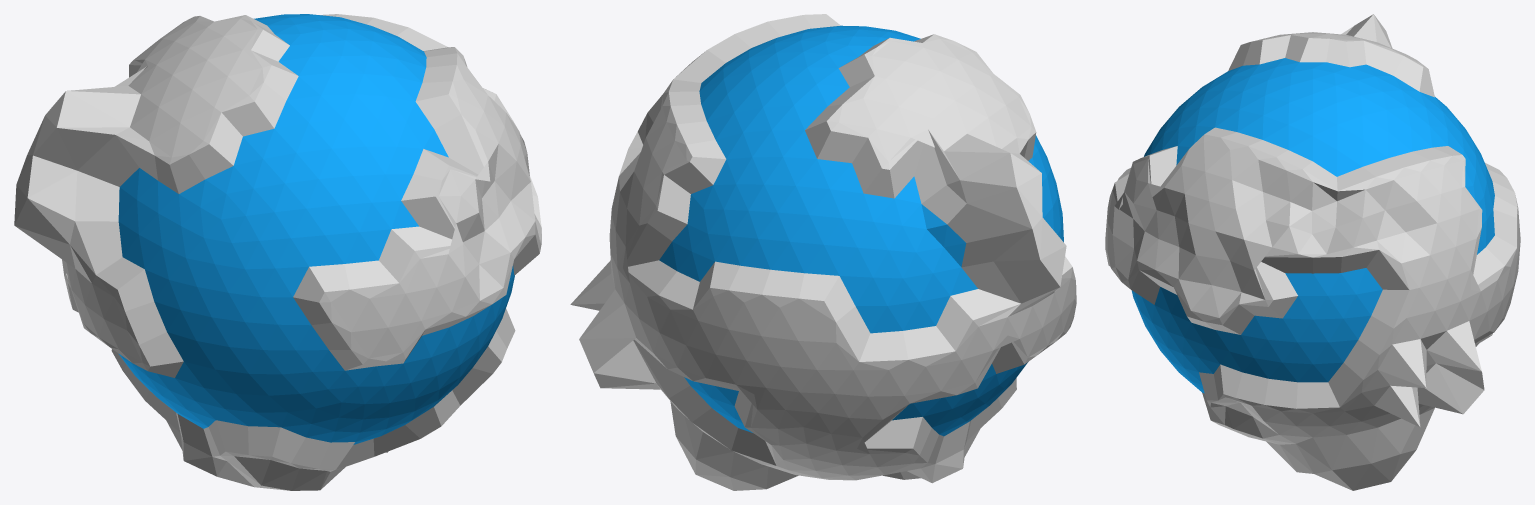
The model's file is ArcticTypePlanet.fbx.
The picture shows the model from 3 angles, left to right: view 1: azimuth 30°, elevation 25°; view 2: azimuth 150°, elevation 25°; view 3: azimuth 270°, elevation 25°; orthographic projection. The views are drawn at different scales.
Parts seen in each view (by area): view 1: Icosphere; view 2: Icosphere; view 3: Icosphere.
Boxes of the visible parts, x1=… form: Icosphere: x1=14, y1=14, x2=541, y2=490; Icosphere: x1=570, y1=14, x2=1076, y2=490; Icosphere: x1=1105, y1=14, x2=1520, y2=490.
Bounding box in the file's own units: 1226 × 1161 × 1100.
